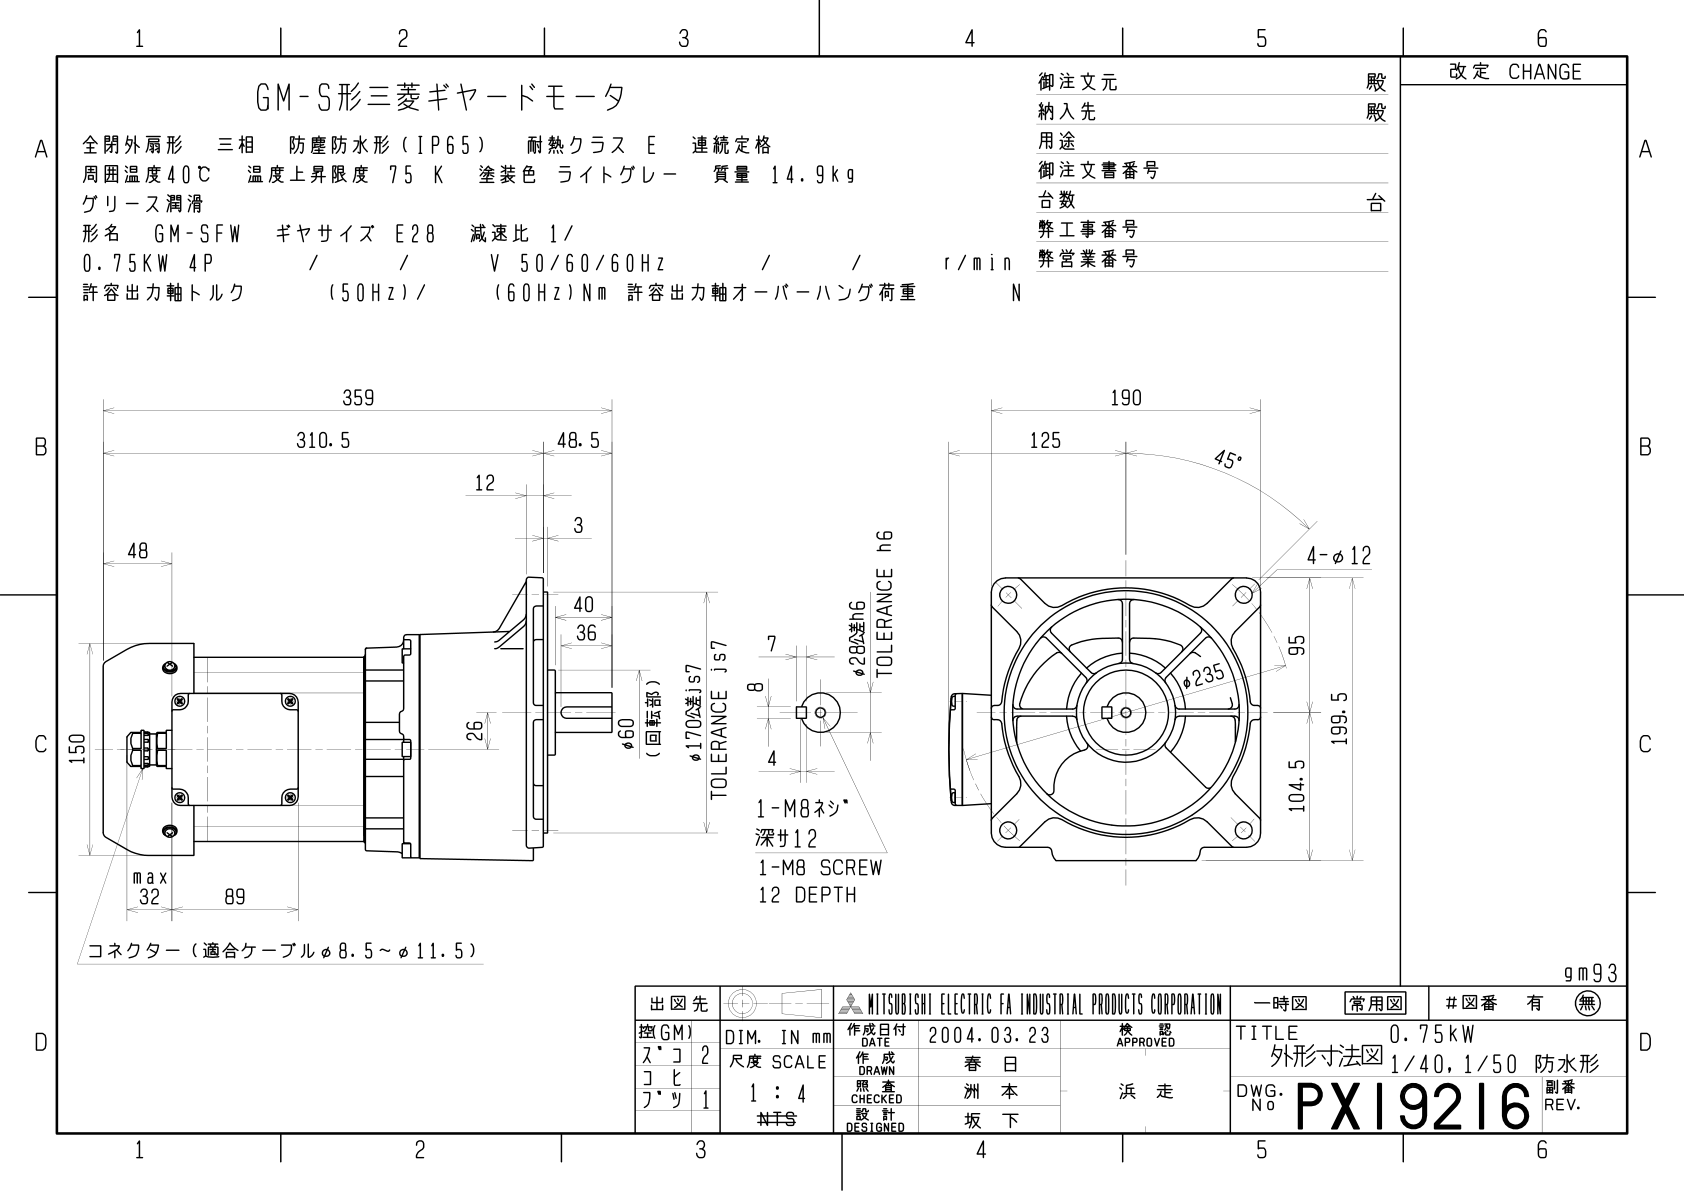GM_S_IP65＿三相_フランジ: (64, 363, 1389, 973)
